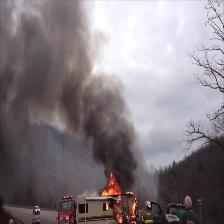fire: (104, 177, 119, 195)
smoke: (15, 5, 86, 113), (91, 90, 135, 174)
